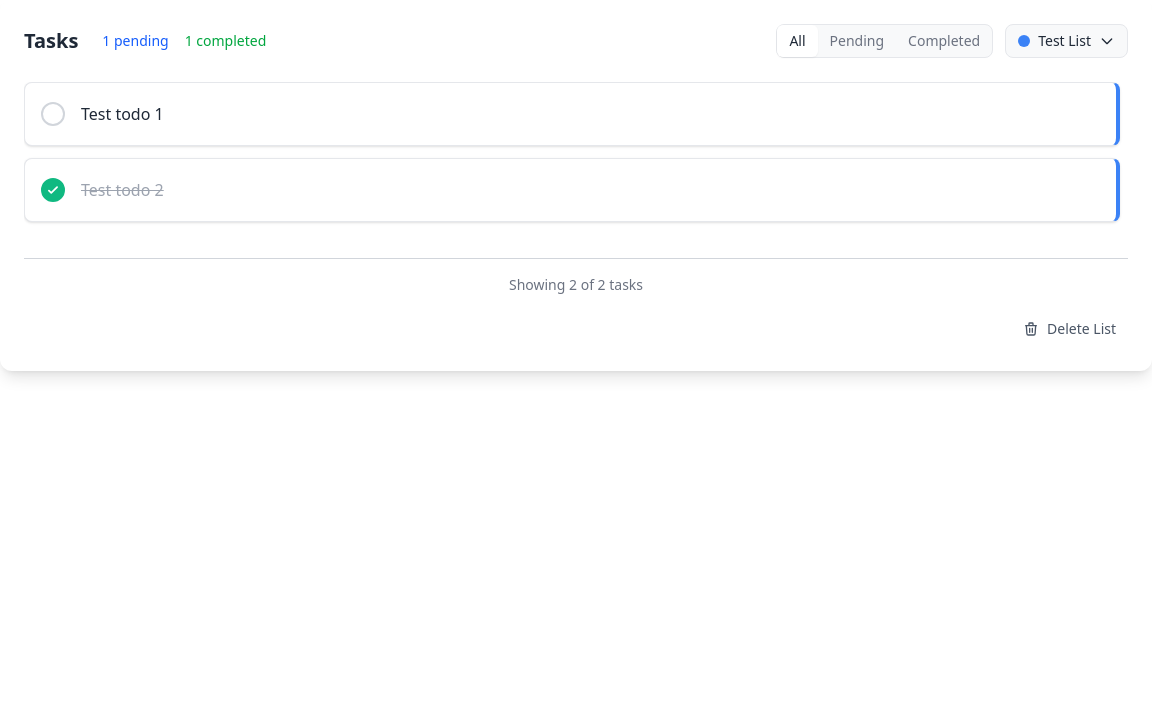
Test: TodoList › cancels delete confirmation
This screenshot has width=1152, height=720.
Click the button "Delete List".
click(1070, 329)  # box [1011,311,1128,347]
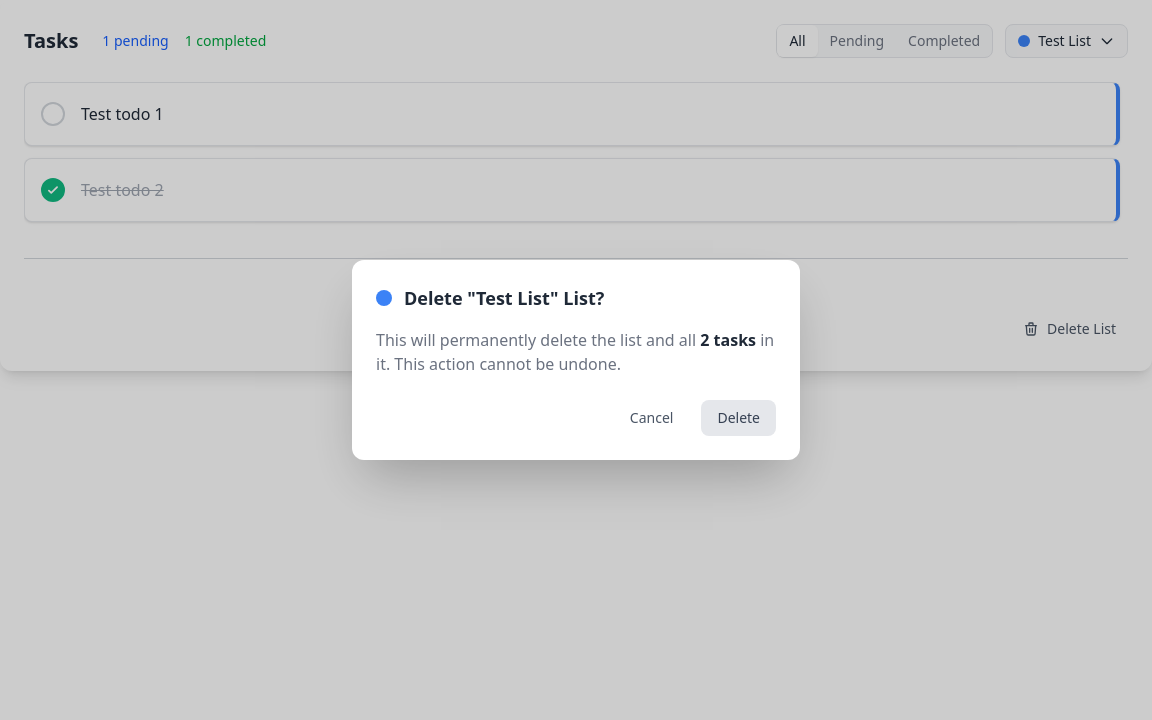
Click the button "Cancel".
click(652, 418)  # box [614,400,689,436]
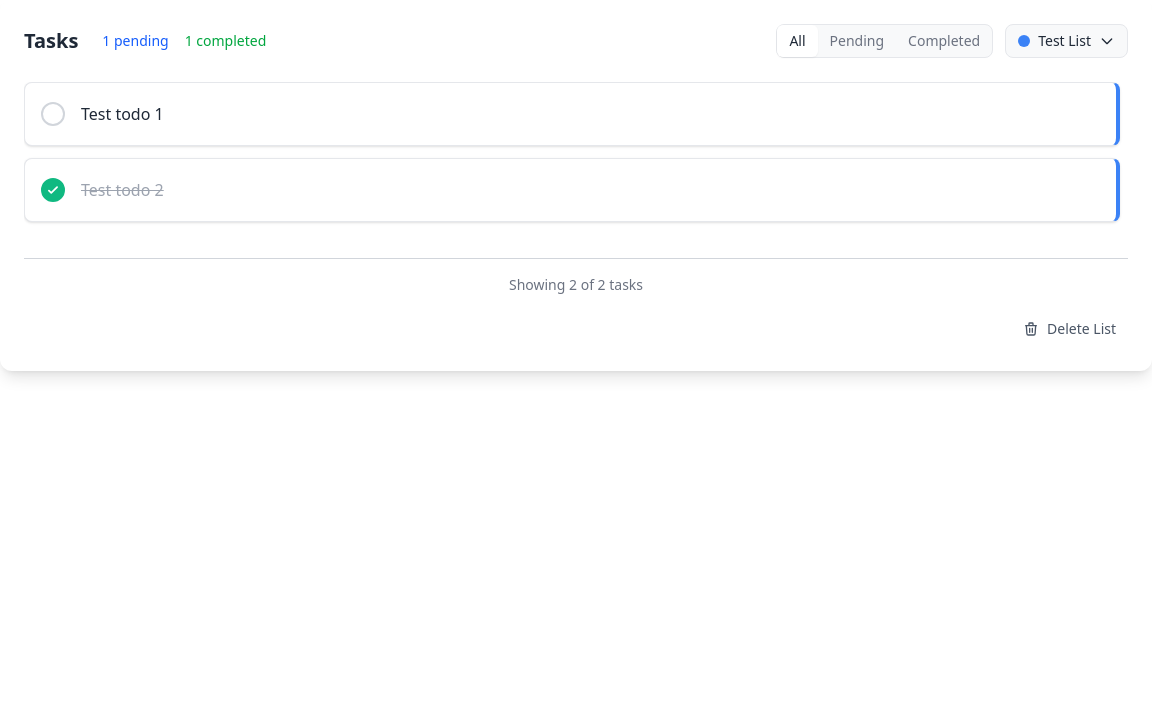
Now the heading "Delete \"Test List\" List?" is gone
